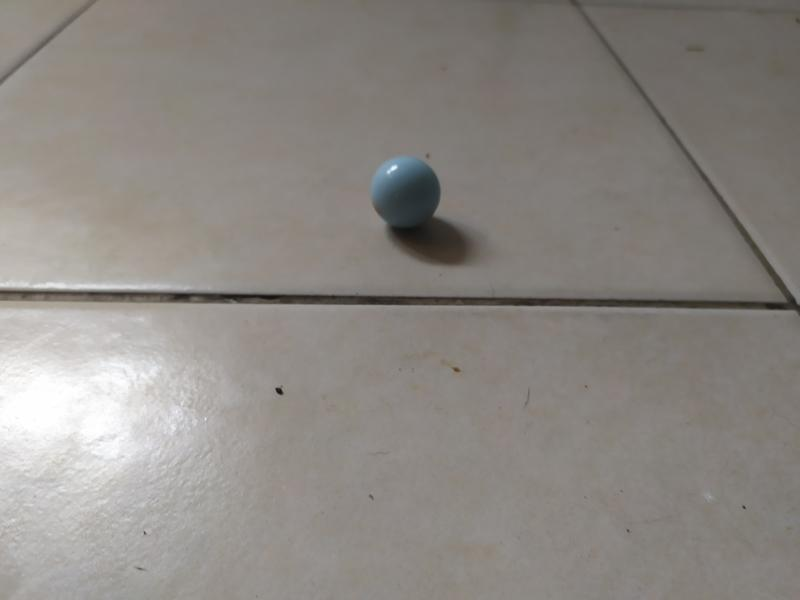Warning: (368, 152, 443, 231)
